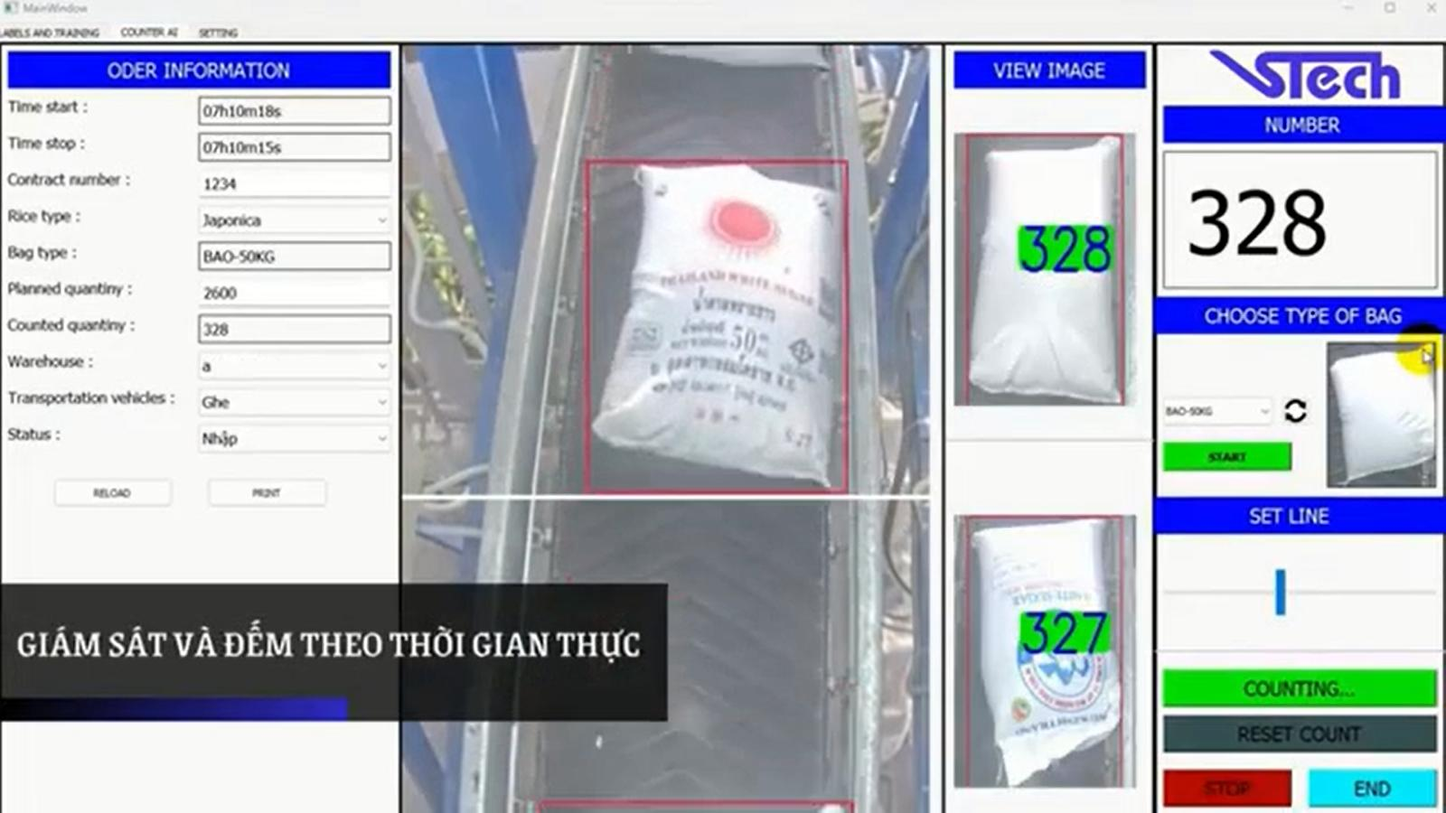rice-bag: (593, 164, 839, 485), (965, 136, 1122, 404), (972, 519, 1121, 783)
